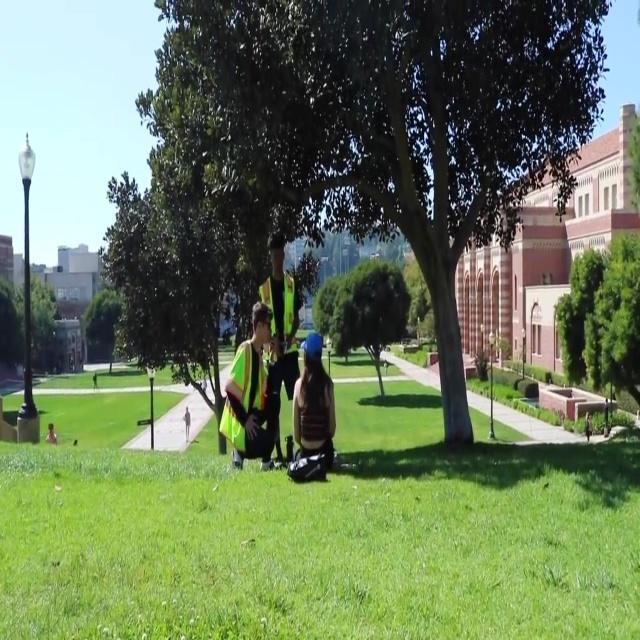vest: (214, 458, 268, 606), (256, 361, 302, 472)
